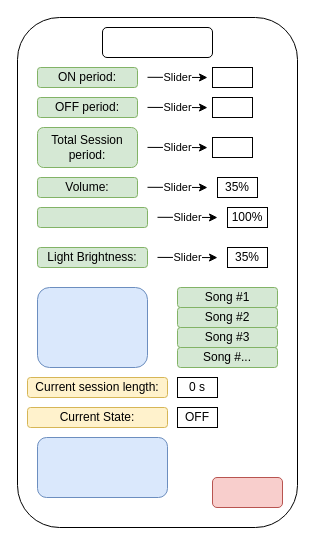
Some shapes in this 315 by 545 pixel diagram are drawn without their labels. The centre of each missing label's shape, as x and y in pixels:
"20 s" belongs at pixel 232 77.
"40 s" belongs at pixel 232 107.
"600 s" belongs at pixel 232 147.
"Interactive Color Picker" belongs at pixel 92 327.
"MuSS App" belongs at pixel 157 42.
"Play/Pause Button" belongs at pixel 102 467.
"Stop Button" belongs at pixel 247 492.
"Vibration Strength:" belongs at pixel 92 217.
